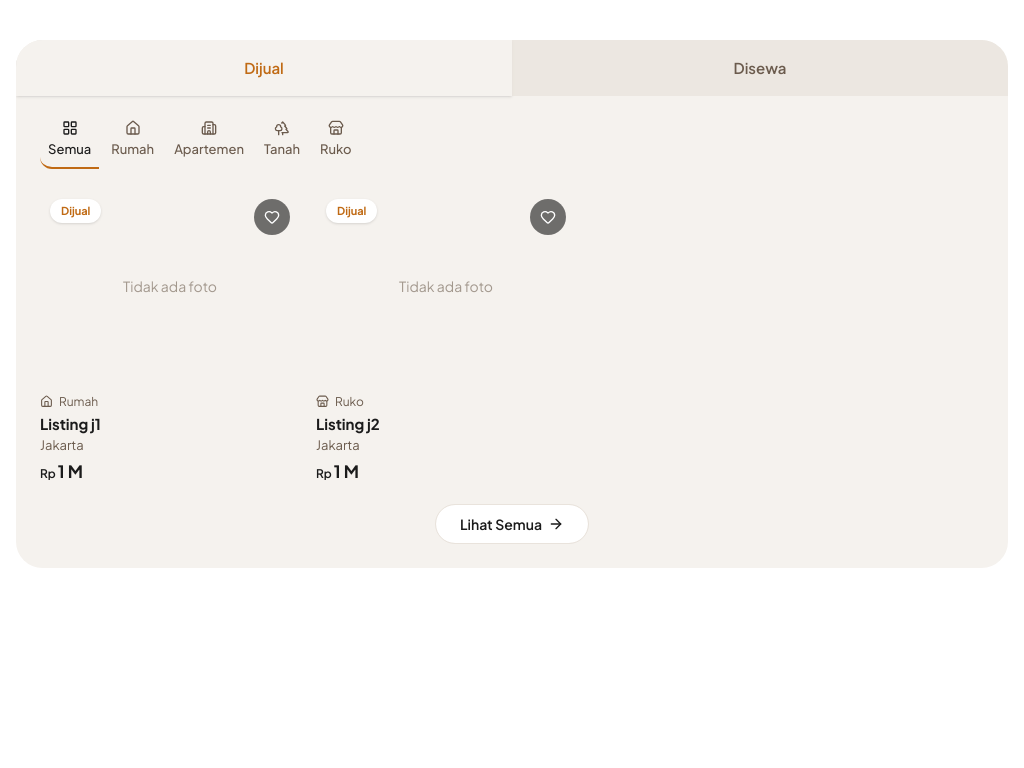
Test: ListingPanel › narrows to one property type
Step 1. Click the radio button labelled "Ruko" → (336,142), box [312,116,360,169]
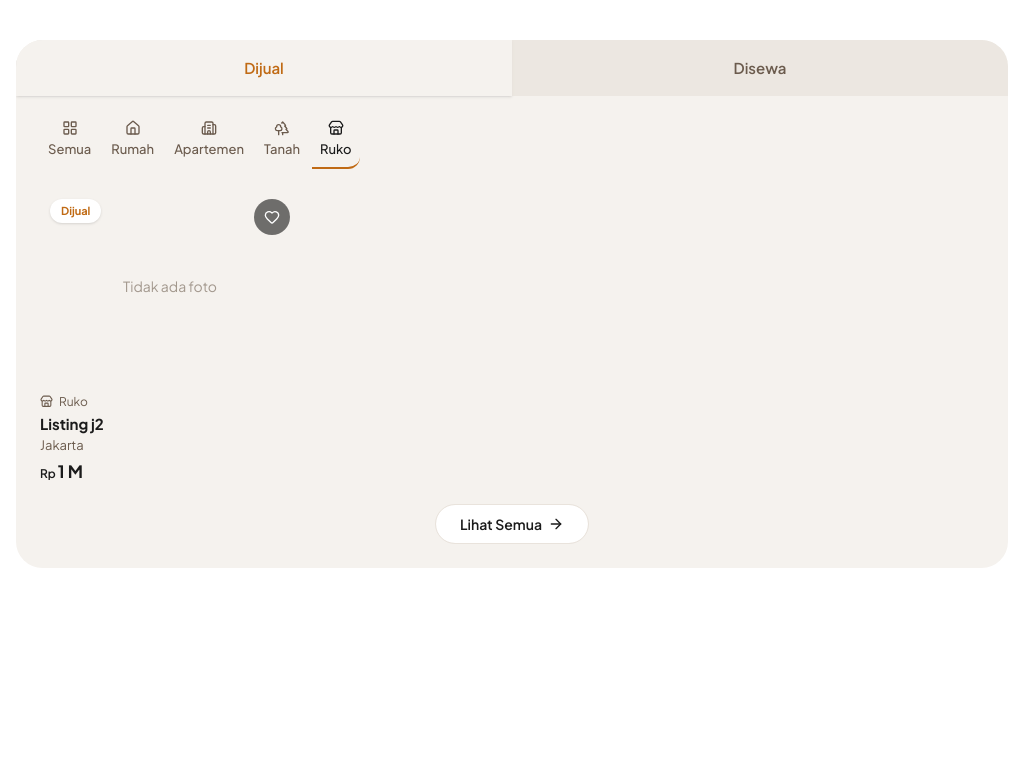
Check: the heading "Listing j2" is shown, box [40,414,104,433]
Check: the link "Listing j1" is gone
